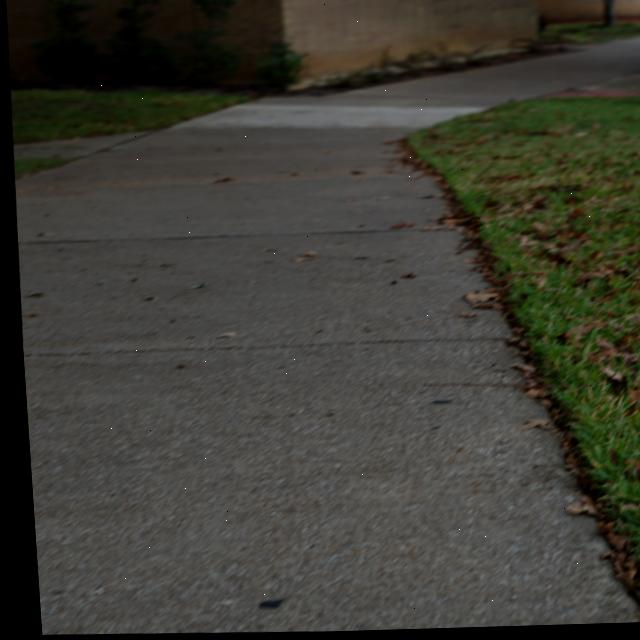Sidewalk: (11, 41, 640, 634)
